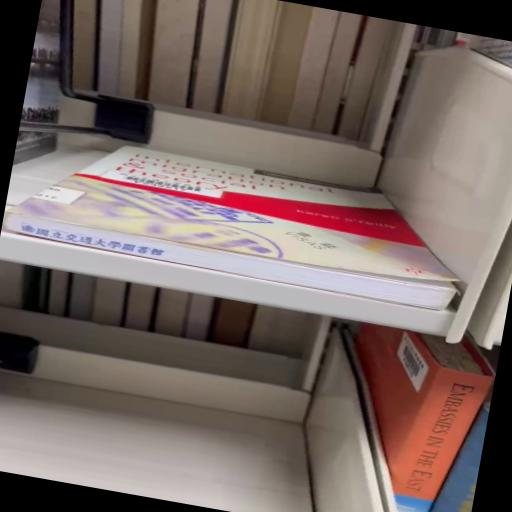flat: (3, 147, 458, 309)
